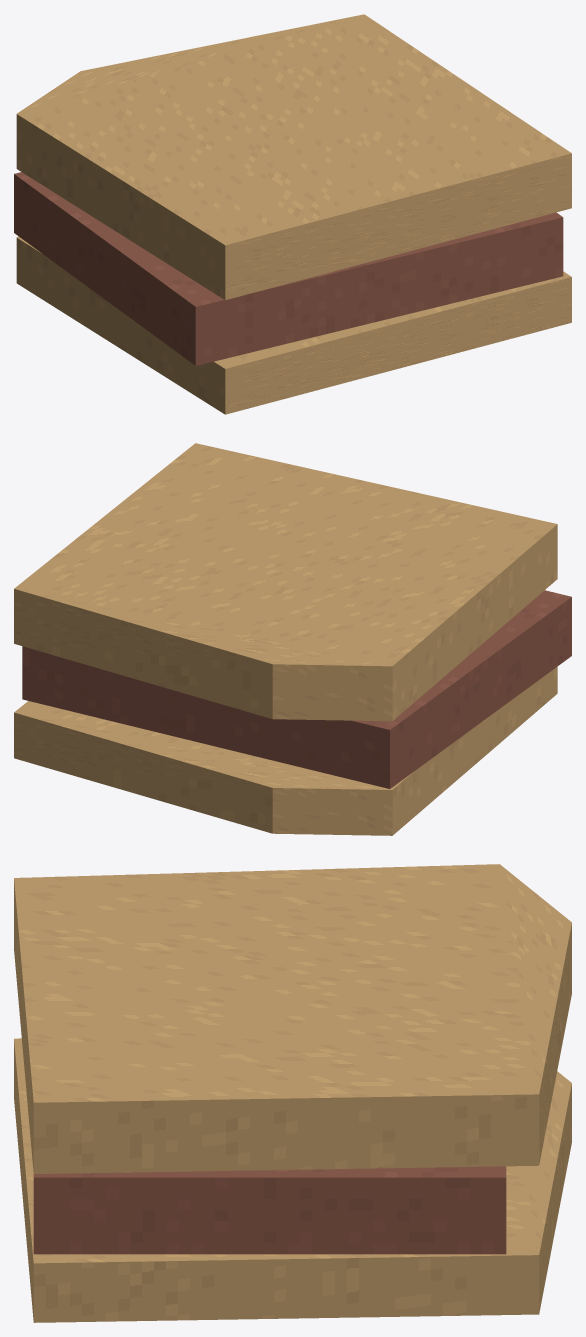
File: sandwich_sauce.glb
The picture shows the model from 3 angles, top to bottom: view 1: azimuth 30°, elevation 25°; view 2: azimuth 150°, elevation 25°; view 3: azimuth 270°, elevation 25°; orthographic projection. The views are drawn at different scales.
Visible parts, largest first — view 1: block_upper slice, block_filling, block_lower slice; view 2: block_upper slice, block_filling, block_lower slice; view 3: block_upper slice, block_lower slice, block_filling.
Boxes of the visible parts, x1,y1,x2,y2 form: block_upper slice: (16,14,571,300); block_filling: (14,172,563,365); block_lower slice: (16,236,571,414); block_upper slice: (14,443,557,721); block_filling: (22,590,571,788); block_lower slice: (14,666,557,835); block_upper slice: (14,864,571,1173); block_lower slice: (14,1038,571,1322); block_filling: (33,1166,506,1254).
Size of the model in its own units: 0.1334 by 0.0574 by 0.1318.
Materials: 1 (1 with a texture image).
